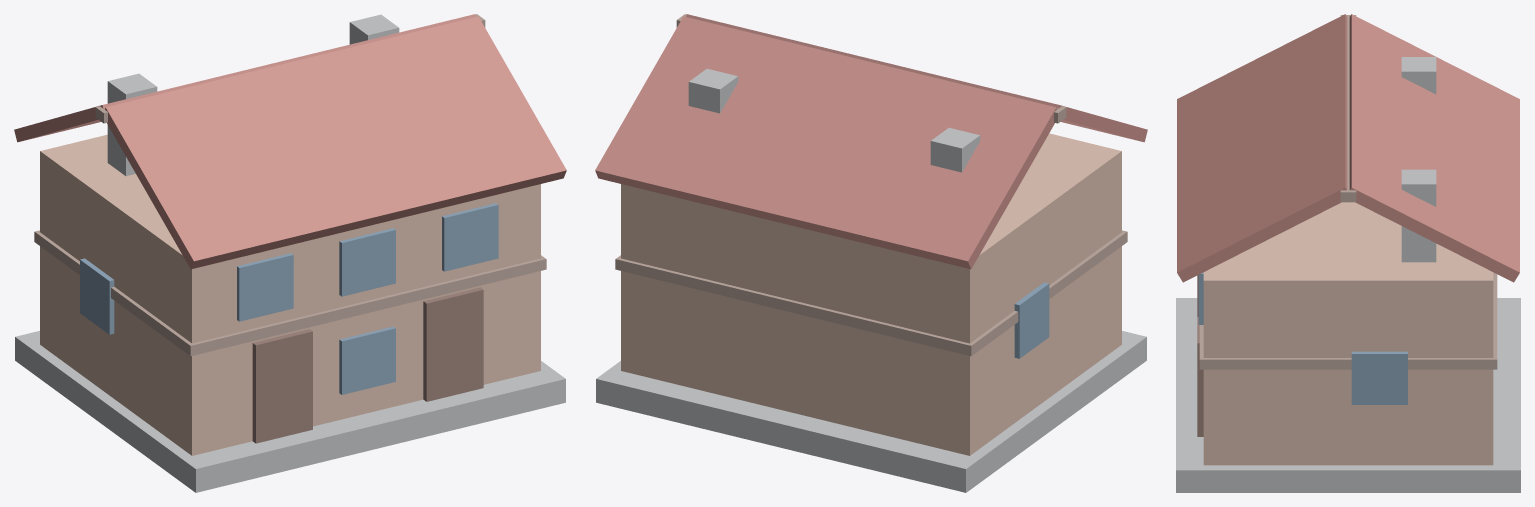
File: WORKER_HOUSE.glb
3 renders of one model, left to right at view 1: azimuth 30°, elevation 25°; view 2: azimuth 150°, elevation 25°; view 3: azimuth 270°, elevation 25°, orthographic. The views are drawn at different scales.
Parts seen in each view (by area): view 1: WORKER_HOUSE; view 2: WORKER_HOUSE; view 3: WORKER_HOUSE.
Part boxes in pixels (x1=…): WORKER_HOUSE: x1=14, y1=14, x2=566, y2=492; WORKER_HOUSE: x1=595, y1=14, x2=1147, y2=492; WORKER_HOUSE: x1=1176, y1=14, x2=1520, y2=492.
Bounding box in the file's own units: 2.68 × 2.15 × 2.2.
